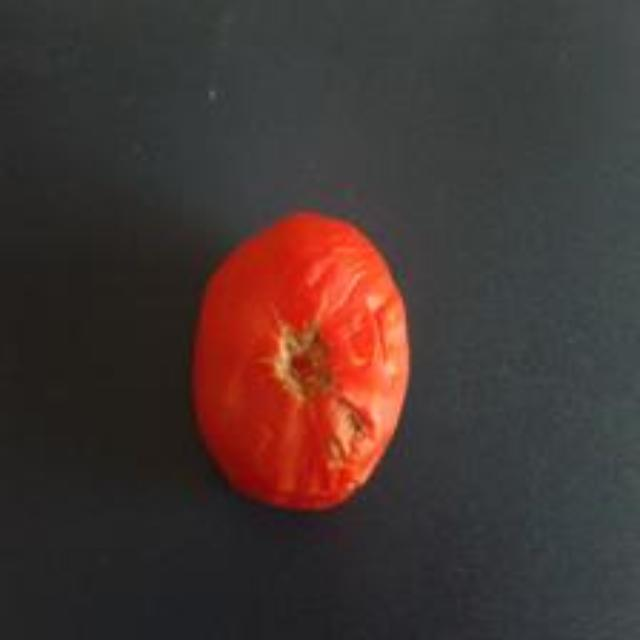defect: (184, 200, 417, 516)
